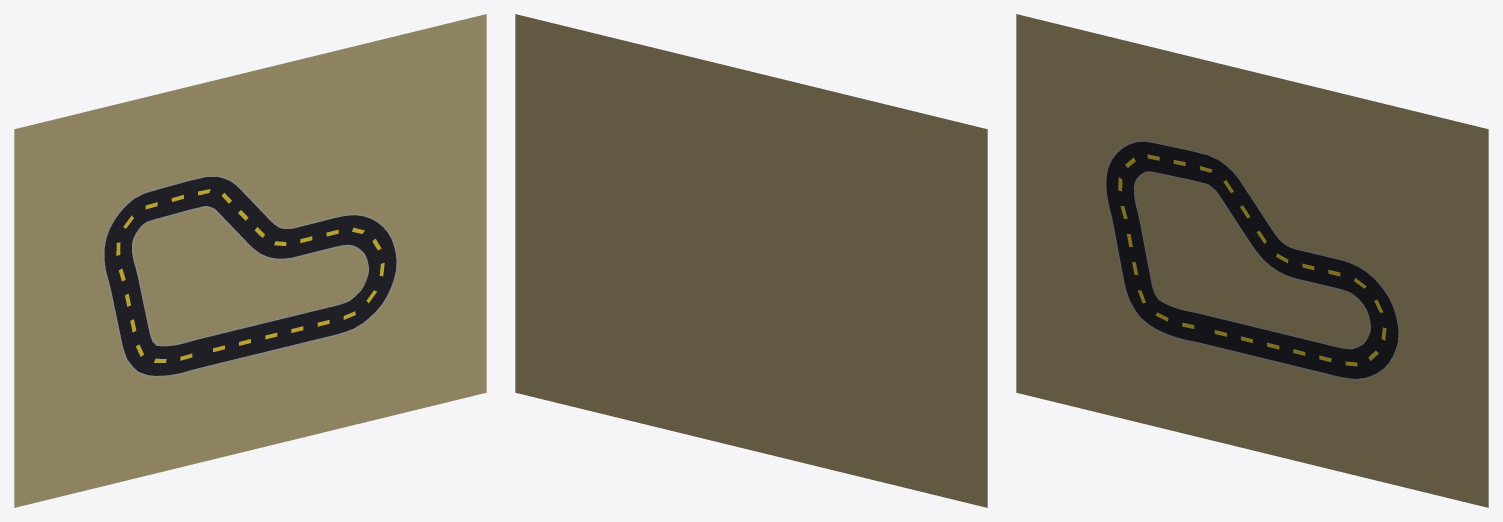
Rendered from track.obj.
The picture shows the model from 3 angles, left to right: view 1: azimuth 30°, elevation 25°; view 2: azimuth 150°, elevation 25°; view 3: azimuth 330°, elevation 25°; orthographic projection.
Bounding box in the file's own units: 11.74 × 8.99 × 0.0025.
